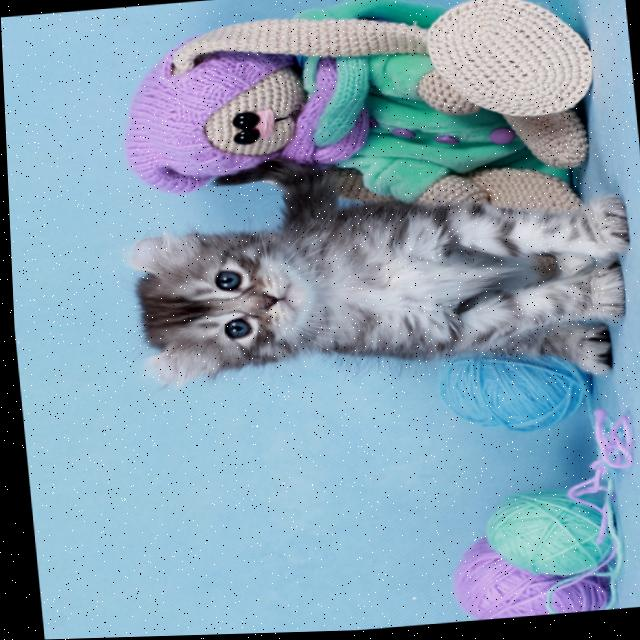American Curl: (112, 132, 640, 417)
